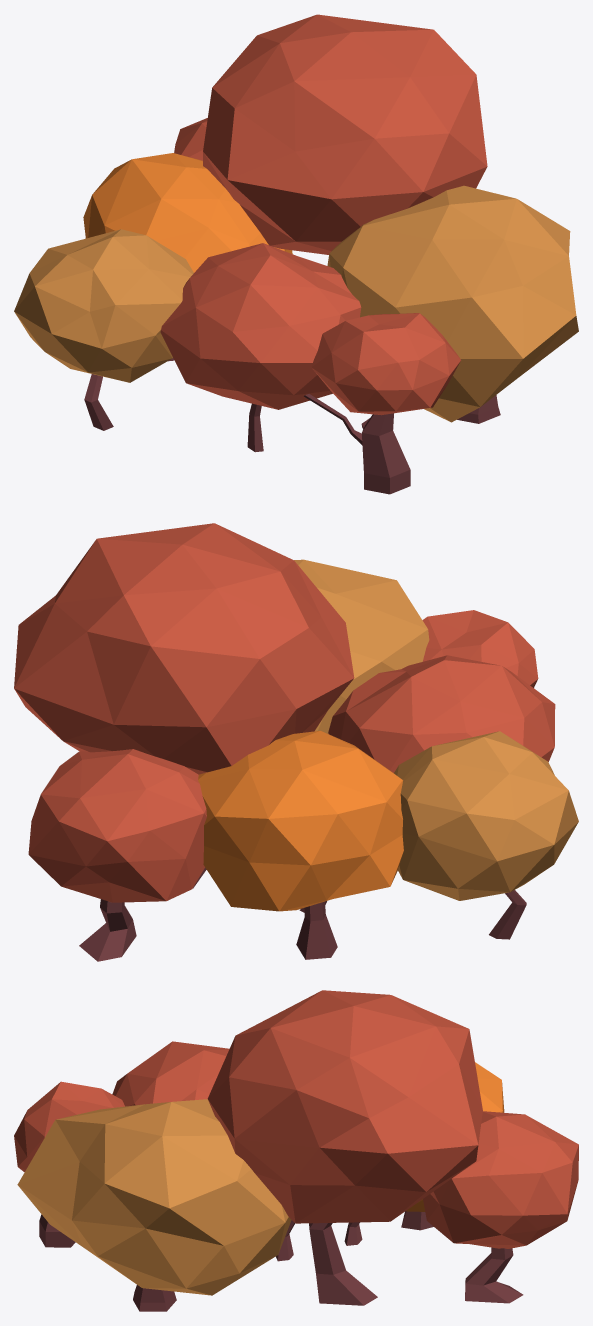
File: klen_bk2.fbx
3 renders of one model, top to bottom at view 1: azimuth 30°, elevation 25°; view 2: azimuth 150°, elevation 25°; view 3: azimuth 270°, elevation 25°, orthographic. The views are drawn at different scales.
Parts seen in each view (by area): view 1: Icosphere.030, Icosphere.028, Icosphere.027, Icosphere.025, Icosphere.024, Icosphere.029, Cylinder.020, Icosphere.026, Cylinder.028, Cylinder.026; view 2: Icosphere.030, Icosphere.024, Icosphere.025, Icosphere.026, Icosphere.027, Icosphere.028, Icosphere.029, Cylinder.027, Cylinder.023, Cylinder.028; view 3: Icosphere.030, Icosphere.028, Icosphere.026, Icosphere.027, Icosphere.029, Cylinder.019, Cylinder.027, Icosphere.024, Cylinder.025, Cylinder.020, Cylinder.023.
Part boxes in pixels (x1,y1,x2,y2): Icosphere.030: (203, 14, 487, 254); Icosphere.028: (327, 185, 578, 422); Icosphere.027: (160, 243, 361, 409); Icosphere.025: (14, 229, 193, 382); Icosphere.024: (83, 153, 292, 272); Icosphere.029: (311, 313, 460, 415); Cylinder.020: (362, 413, 410, 494); Icosphere.026: (174, 118, 207, 160); Cylinder.028: (84, 374, 113, 430); Cylinder.026: (247, 403, 263, 452); Icosphere.030: (14, 523, 354, 774); Icosphere.024: (198, 730, 403, 911); Icosphere.025: (394, 731, 578, 900); Icosphere.026: (28, 749, 206, 902); Icosphere.027: (328, 655, 555, 772); Icosphere.028: (294, 559, 429, 733); Icosphere.029: (422, 610, 538, 687); Cylinder.027: (79, 899, 136, 961); Cylinder.023: (296, 901, 337, 959); Cylinder.028: (489, 890, 526, 939); Icosphere.030: (207, 990, 482, 1223); Icosphere.028: (17, 1099, 291, 1295); Icosphere.026: (423, 1111, 578, 1248); Icosphere.027: (112, 1041, 229, 1106); Icosphere.029: (14, 1081, 124, 1171); Cylinder.019: (309, 1223, 377, 1305); Cylinder.027: (465, 1247, 523, 1303); Icosphere.024: (406, 1062, 504, 1211); Cylinder.025: (133, 1285, 176, 1311); Cylinder.020: (39, 1214, 75, 1247); Cylinder.023: (401, 1211, 433, 1230).
Bounding box in the file's own units: 205 × 130 × 226.
